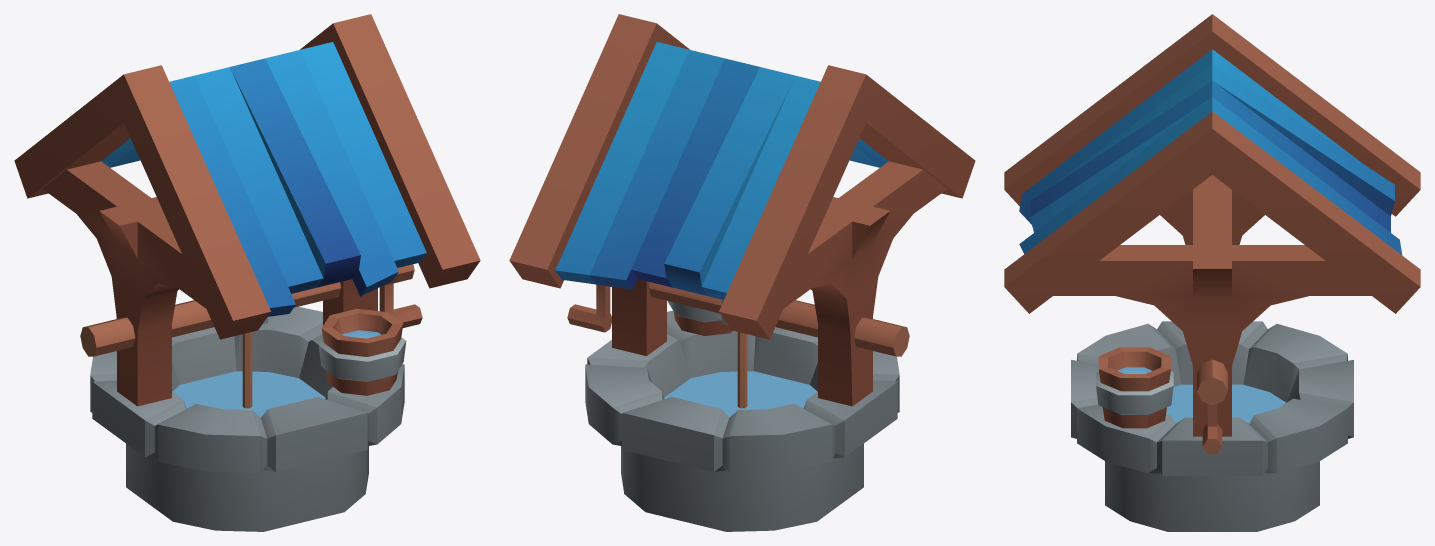
Rendered from building_well_blue.gltf.
3 views of the same model, side by side, from view 1: azimuth 30°, elevation 25°; view 2: azimuth 150°, elevation 25°; view 3: azimuth 270°, elevation 25° (orthographic). The views are drawn at different scales.
Visible parts, largest first — view 1: building_well_blue; view 2: building_well_blue; view 3: building_well_blue.
Part boxes in pixels (x1,y1,x2,y2): building_well_blue: (14,14,480,531); building_well_blue: (509,14,975,531); building_well_blue: (1004,14,1420,531).
Size of the model in its own units: 0.6518 by 0.826 by 0.7507.
1 material, 1 textured.
